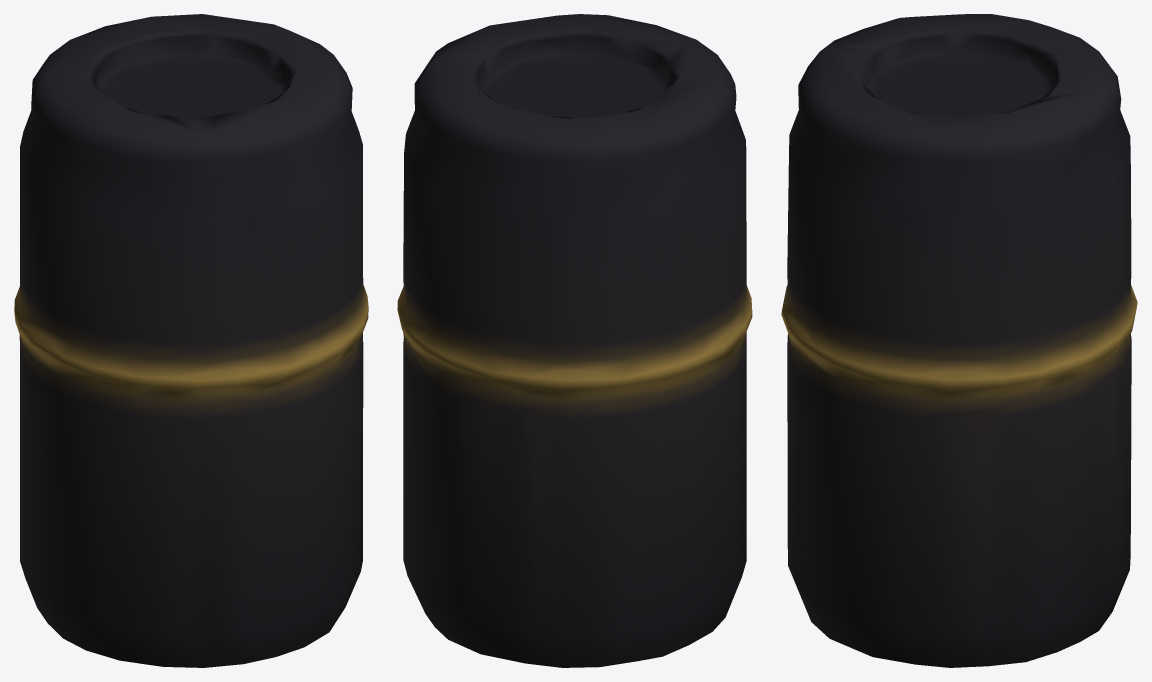
Rendered from lumiere-trash-bin.glb.
The picture shows the model from 3 angles, left to right: view 1: azimuth 30°, elevation 25°; view 2: azimuth 150°, elevation 25°; view 3: azimuth 270°, elevation 25°; orthographic projection.
Parts seen in each view (by area): view 1: lumiere-trash-bin_LOD0; view 2: lumiere-trash-bin_LOD0; view 3: lumiere-trash-bin_LOD0.
Part boxes in pixels (box(x1,y1,x2,y2)): lumiere-trash-bin_LOD0: box(14, 14, 368, 667); lumiere-trash-bin_LOD0: box(397, 14, 752, 667); lumiere-trash-bin_LOD0: box(781, 14, 1137, 667).
Size of what is drawn, in the model's own units: 0.4387 by 0.72 by 0.4387.
